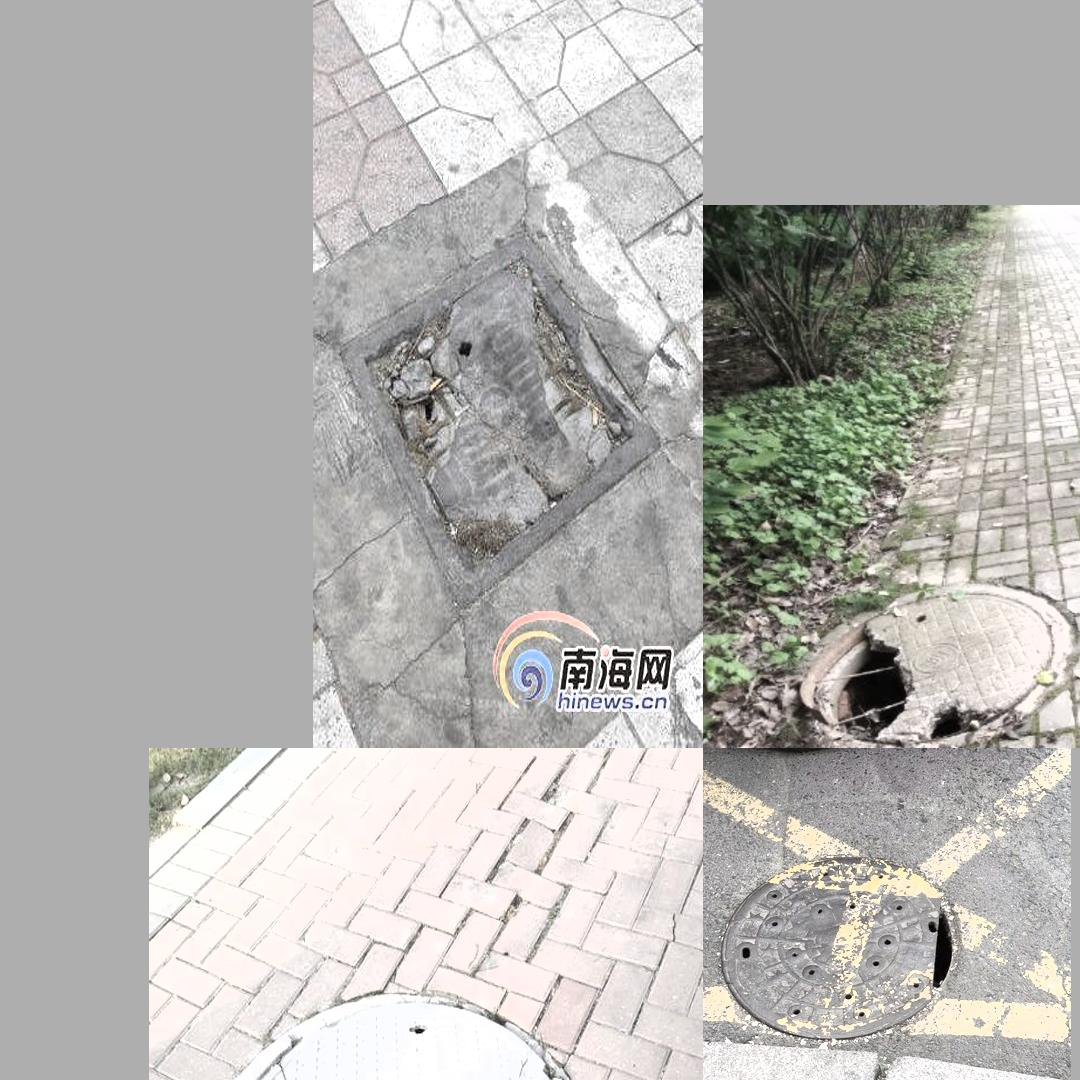broke: (337, 220, 676, 598), (166, 964, 634, 1080), (716, 844, 988, 1036), (797, 581, 1073, 748)
